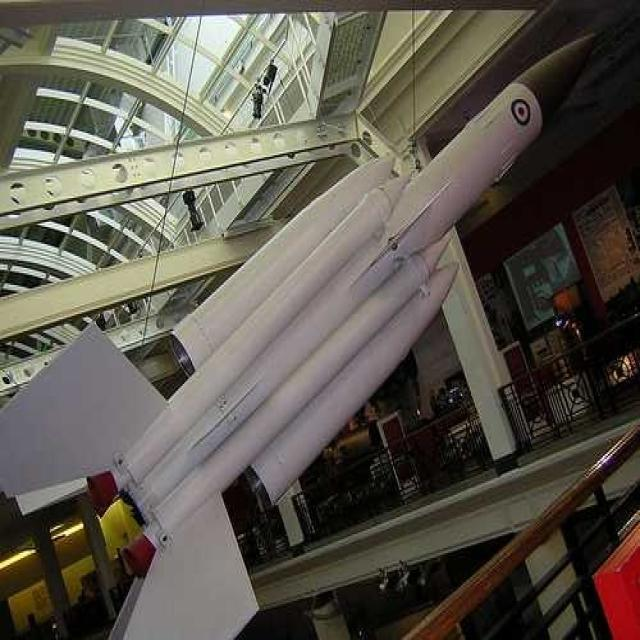missile: (0, 22, 607, 640)
